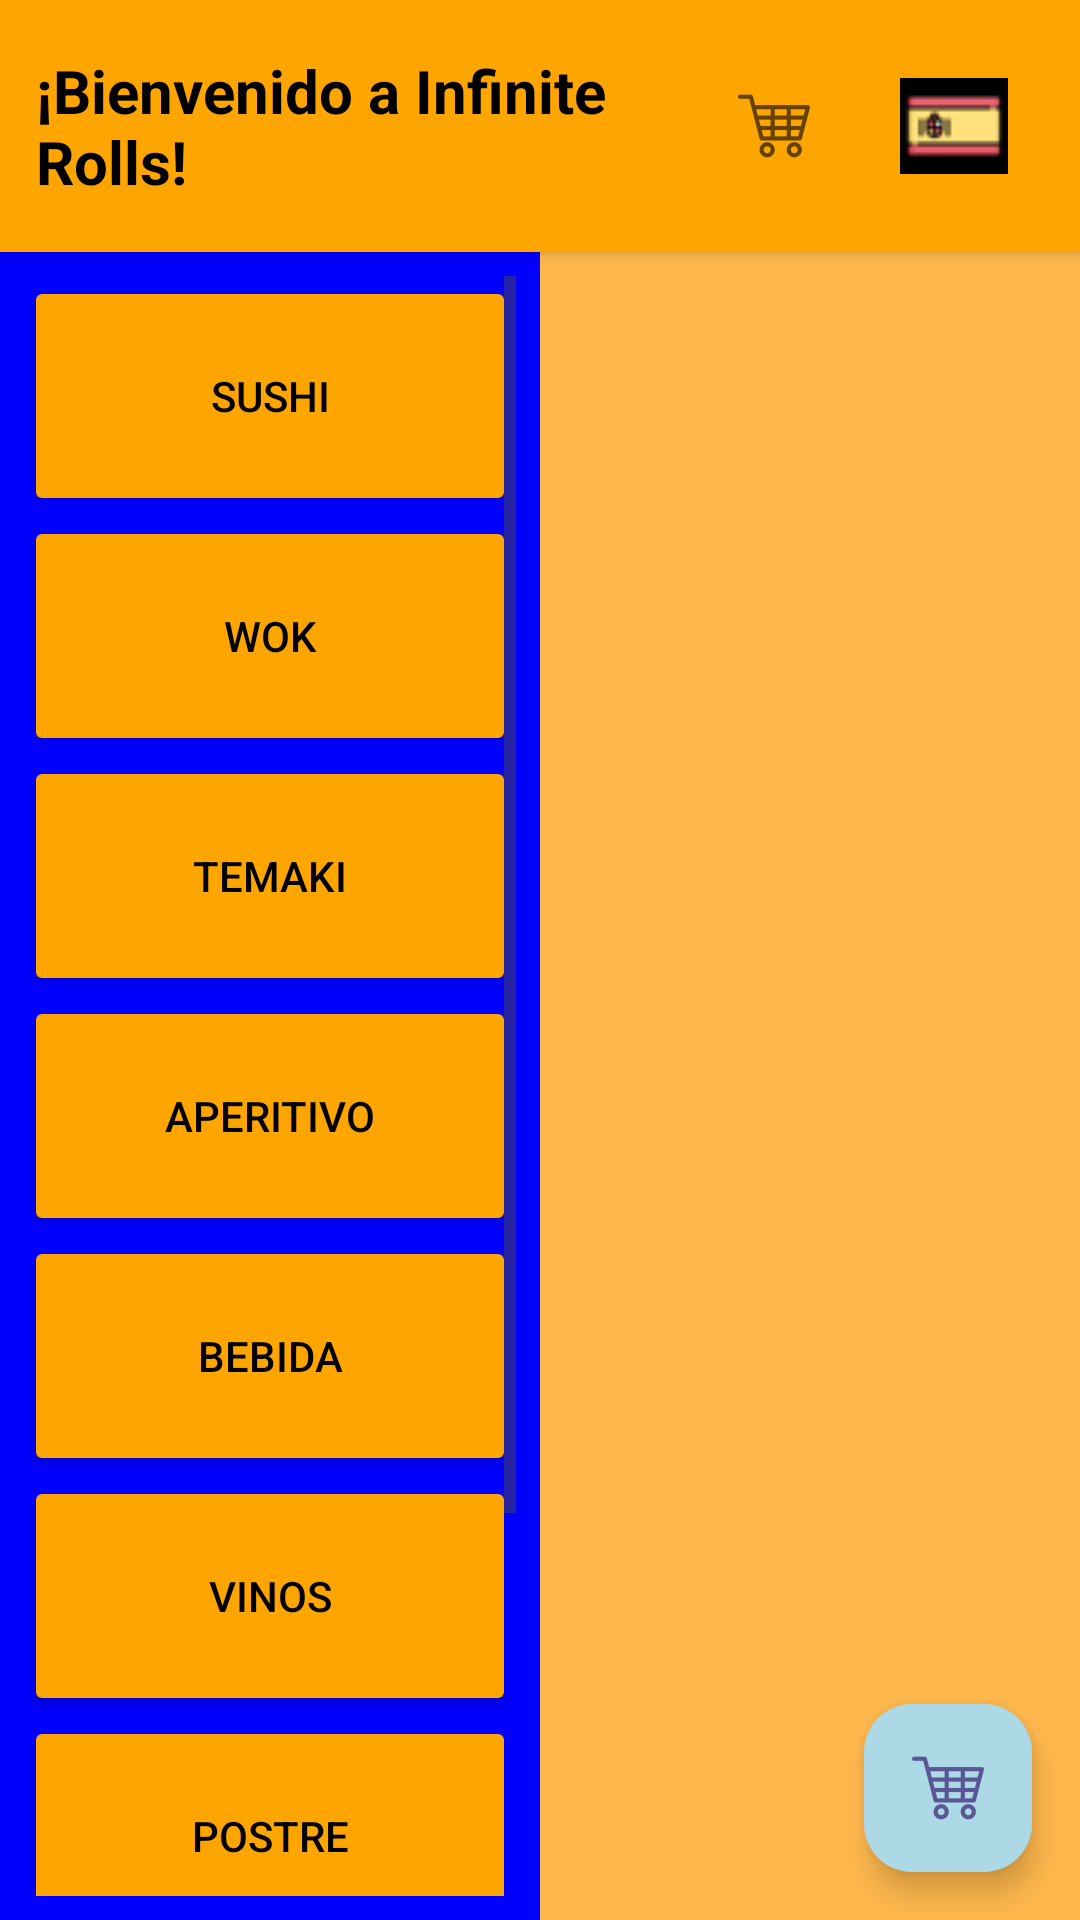

Icons on this 1080 × 1920 Android screen, each with the point to tap as [x,y]:
Selector de Idioma: [954,126]
